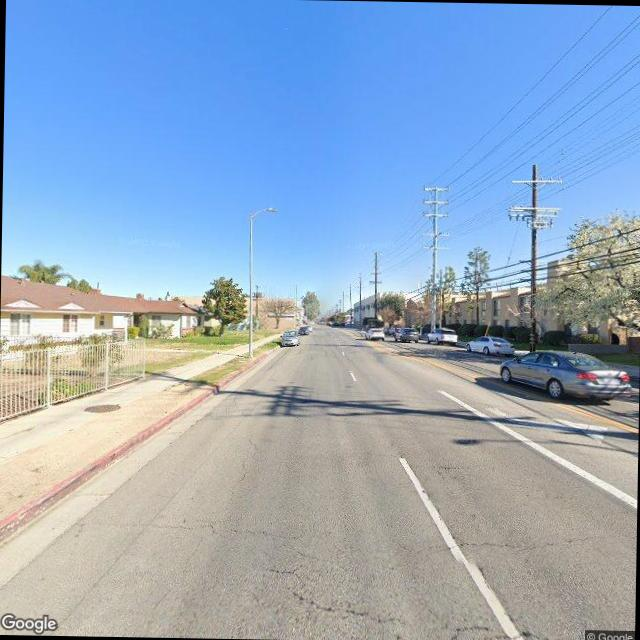crack: (190, 518, 404, 626), (451, 526, 609, 555), (229, 428, 260, 493)
